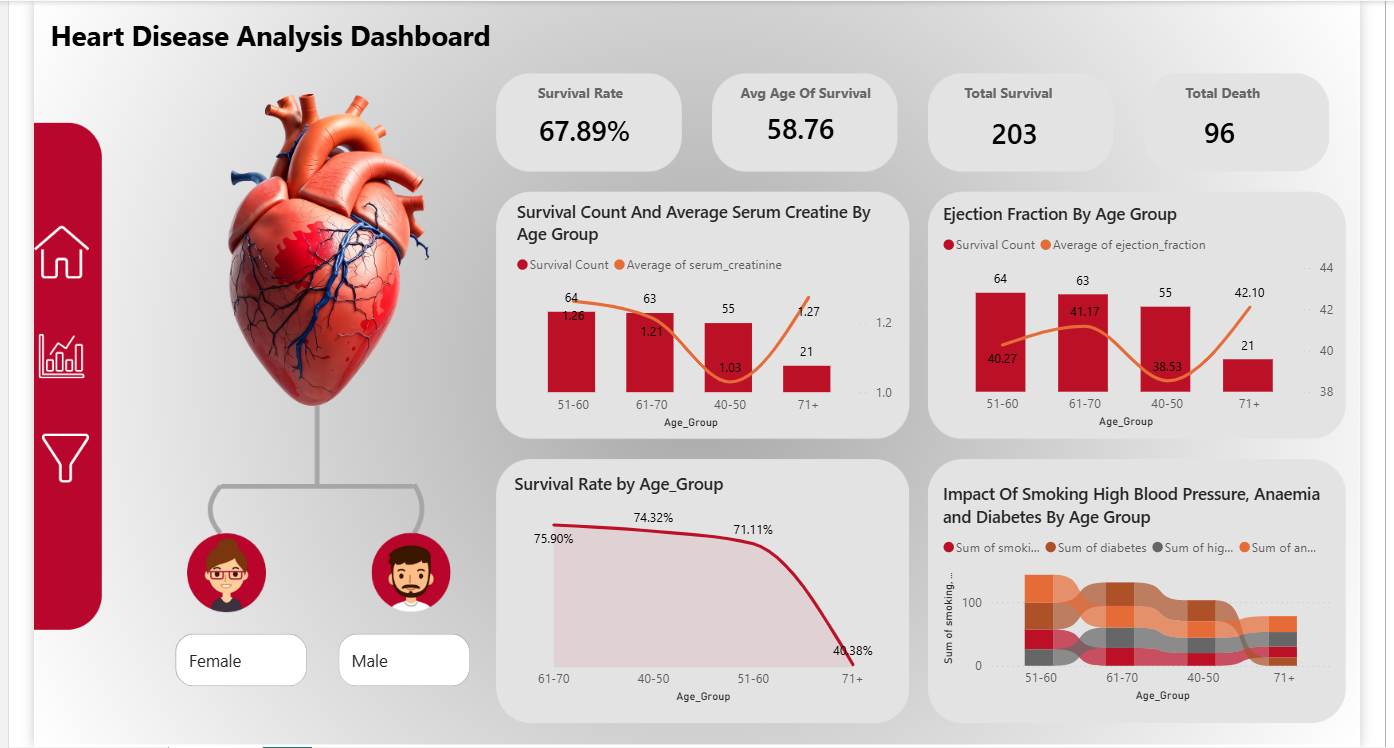

What the dashboard file says about the page in this screenshot:
{"tool":"powerbi","page":{"name":"Page 1","canvas":[1280,720],"ordinal":0},"visuals":[{"type":"textbox","box":[11.4,10,537.1,50],"z":0},{"type":"cardVisual","fields":{"Data":["heart_Disease_clinical_records_.Survival Rate"]},"box":[458.6,87.1,155.7,71.4],"z":1},{"type":"cardVisual","fields":{"Data":["heart_Disease_clinical_records_.Average Rate Of Survival"]},"box":[678.6,87.1,131.4,68.6],"z":2},{"type":"cardVisual","fields":{"Data":["heart_Disease_clinical_records_.Total_Survival"]},"box":[895.7,94.3,110,64.3],"z":3},{"type":"cardVisual","fields":{"Data":["heart_Disease_clinical_records_.Total_Death"]},"box":[1100,90,114.3,68.6],"z":4},{"type":"textbox","box":[461.4,74.3,132.9,38.6],"z":5},{"type":"lineClusteredColumnComboChart","title":"Survival Count And Average Serum Creatine By Age Group ","fields":{"Category":["heart_Disease_clinical_records_.Age_Group"],"Y":["CountNonNull(heart_Disease_clinical_records_.DEATH_EVENT)"],"Y2":["Avg(heart_Disease_clinical_records_.serum_creatinine)"]},"box":[461.4,191.4,372.9,225.7],"z":6},{"type":"textbox","box":[671.4,74.3,145.7,38.6],"z":7},{"type":"textbox","box":[872.9,74.3,132.9,38.6],"z":8},{"type":"textbox","box":[1081.4,74.3,132.9,38.6],"z":9},{"type":"lineClusteredColumnComboChart","title":"Ejection Fraction By Age Group","fields":{"Category":["heart_Disease_clinical_records_.Age_Group"],"Y":["CountNonNull(heart_Disease_clinical_records_.DEATH_EVENT)"],"Y2":["Avg(heart_Disease_clinical_records_.ejection_fraction)"]},"box":[872.9,194.3,387.1,222.9],"z":10},{"type":"lineChart","fields":{"Category":["heart_Disease_clinical_records_.Age_Group"],"Y":["heart_Disease_clinical_records_.Survival Rate"]},"box":[458.6,454.3,375.7,227.1],"z":11},{"type":"ribbonChart","title":"Impact Of Smoking High Blood Pressure, Anaemia and Diabetes By Age Group ","fields":{"Category":["heart_Disease_clinical_records_.Age_Group"],"Y":["Sum(heart_Disease_clinical_records_.smoking)","Sum(heart_Disease_clinical_records_.diabetes)","Sum(heart_Disease_clinical_records_.high_blood_pressure)","Sum(heart_Disease_clinical_records_.anaemia)"]},"box":[872.9,464.3,387.1,217.1],"z":12},{"type":"advancedSlicerVisual","fields":{"Values":["heart_Disease_clinical_records_.Gender"]},"box":[131.4,605.7,295.7,61.4],"z":13}]}

Visuals, with their boxes on the page's 1280x720 design canvas (x1, y1, x2, y2). These are canvas units, not pixel positions in the 1394x748 screenshot, which may show the page scaled, cropped or inside an application window:
textbox: rect(11, 10, 548, 60)
cardVisual - heart_Disease_clinical_records_.Survival Rate: rect(459, 87, 614, 158)
cardVisual - heart_Disease_clinical_records_.Average Rate Of Survival: rect(679, 87, 810, 156)
cardVisual - heart_Disease_clinical_records_.Total_Survival: rect(896, 94, 1006, 159)
cardVisual - heart_Disease_clinical_records_.Total_Death: rect(1100, 90, 1214, 159)
textbox: rect(461, 74, 594, 113)
"Survival Count And Average Serum Creatine By Age Group " lineClusteredColumnComboChart: rect(461, 191, 834, 417)
textbox: rect(671, 74, 817, 113)
textbox: rect(873, 74, 1006, 113)
textbox: rect(1081, 74, 1214, 113)
"Ejection Fraction By Age Group" lineClusteredColumnComboChart: rect(873, 194, 1260, 417)
lineChart - heart_Disease_clinical_records_.Age_Group x heart_Disease_clinical_records_.Survival Rate: rect(459, 454, 834, 681)
"Impact Of Smoking High Blood Pressure, Anaemia and Diabetes By Age Group " ribbonChart: rect(873, 464, 1260, 681)
advancedSlicerVisual - heart_Disease_clinical_records_.Gender: rect(131, 606, 427, 667)
